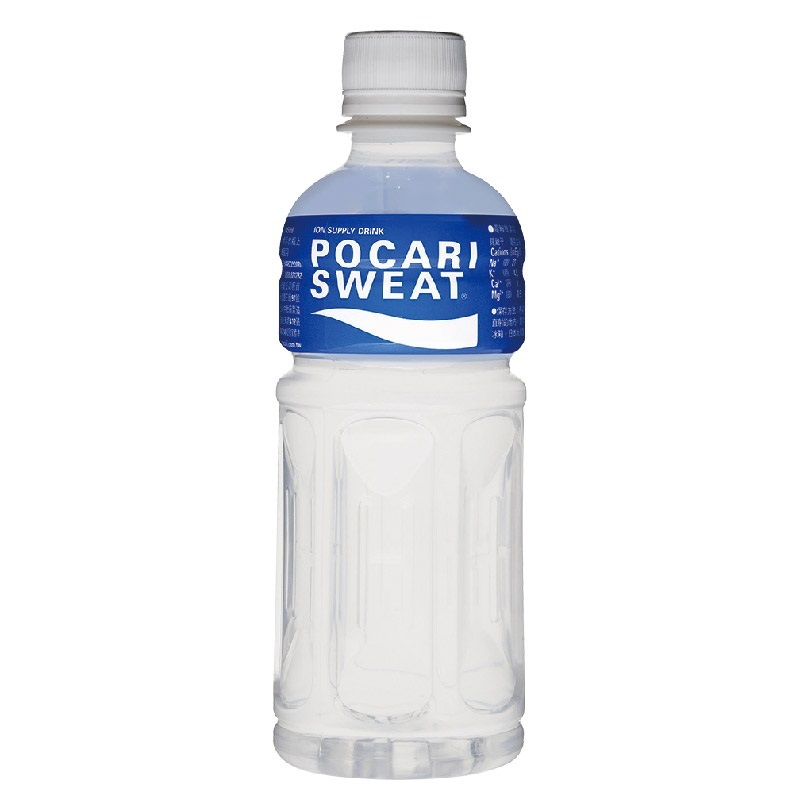POCARI SWEAT: (267, 23, 523, 778)
